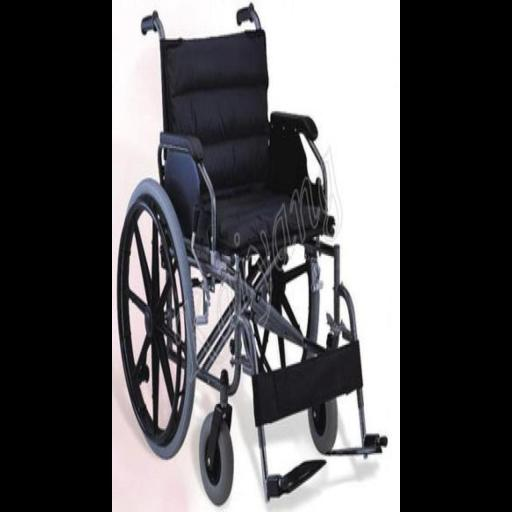cadeira_de_rodas: (114, 0, 389, 501)
